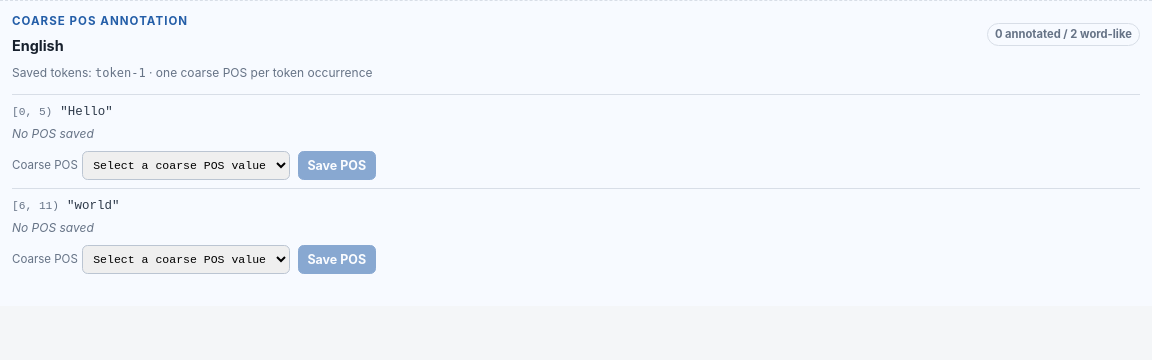
Test case: PosAnnotationPanel › presents INVALID_POS_VALUE with the stable error code and guidance
The width and height of the screenshot is (1152, 360).
Select "NOUN" in the dropdown named "Coarse POS for Hello". click: {"x": 186, "y": 166}
box: [82, 151, 290, 180]
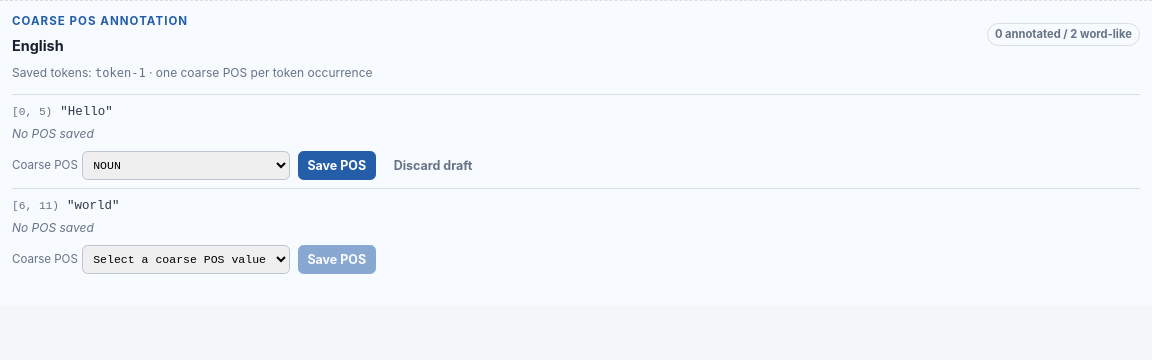
Click the button "Save POS" below "\"Hello\"". click: {"x": 337, "y": 166}
box: [298, 151, 376, 180]
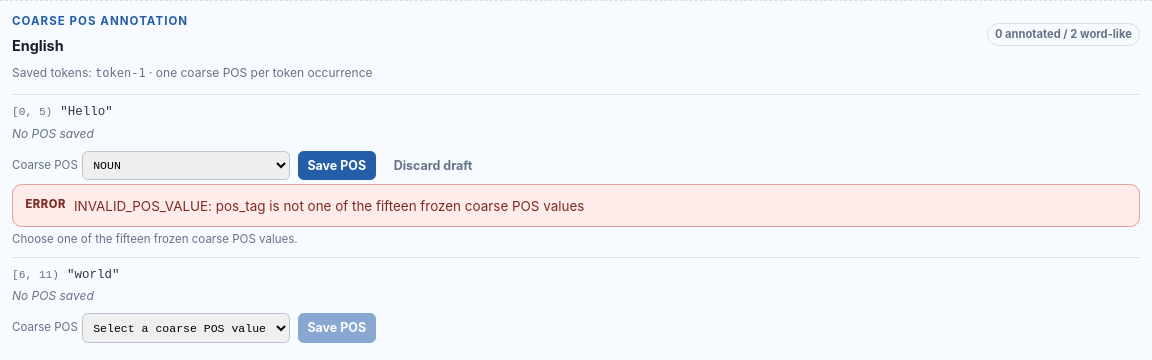
Result: the text "Choose one of the fifteen frozen coarse POS values." is shown at [12, 232, 298, 246]
